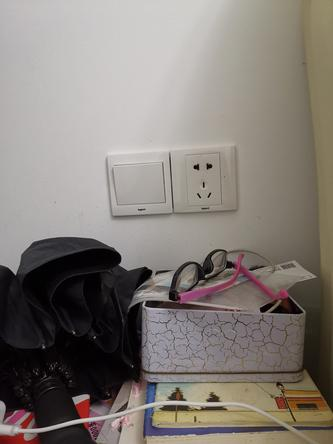switch: (110, 158, 171, 208)
